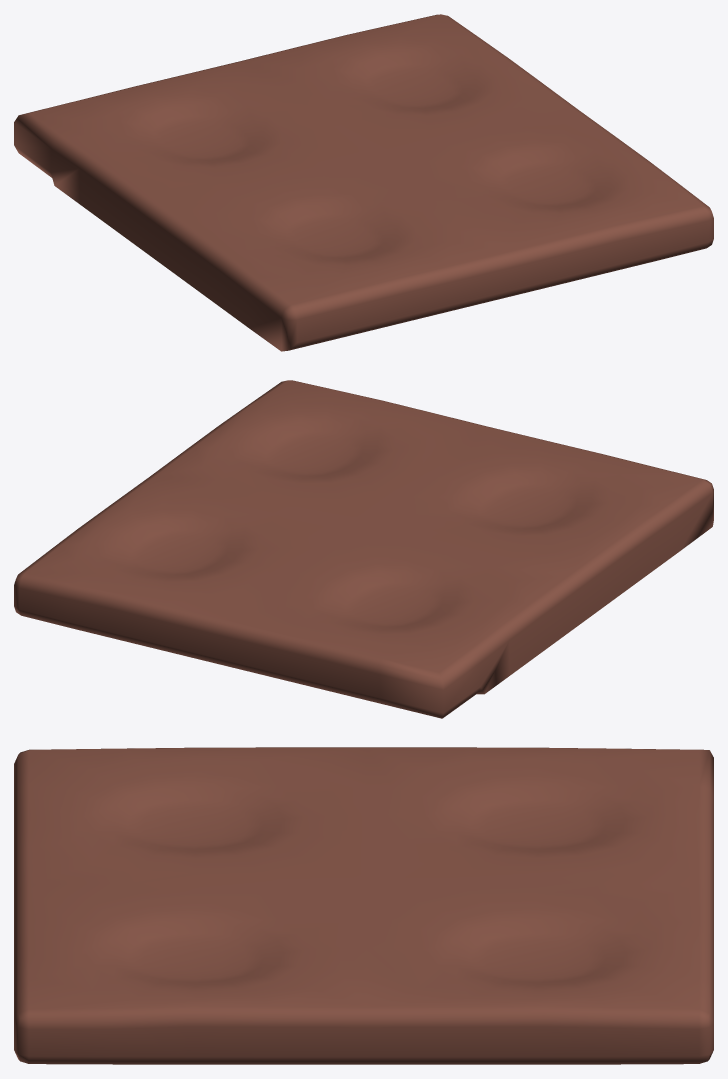
The model's file is Farm_3_Garden_1.glb.
3 renders of one model, top to bottom at view 1: azimuth 30°, elevation 25°; view 2: azimuth 150°, elevation 25°; view 3: azimuth 270°, elevation 25°, orthographic. The views are drawn at different scales.
Parts seen in each view (by area): view 1: Farm_3_Garden_1; view 2: Farm_3_Garden_1; view 3: Farm_3_Garden_1.
Boxes of the visible parts, left/top/right/bottom form: Farm_3_Garden_1: left=14, top=14, right=713, bottom=351; Farm_3_Garden_1: left=14, top=380, right=713, bottom=718; Farm_3_Garden_1: left=14, top=747, right=713, bottom=1064.
Size of the model in its own units: 2.69 by 0.2773 by 2.95.
1 material, 1 textured.
